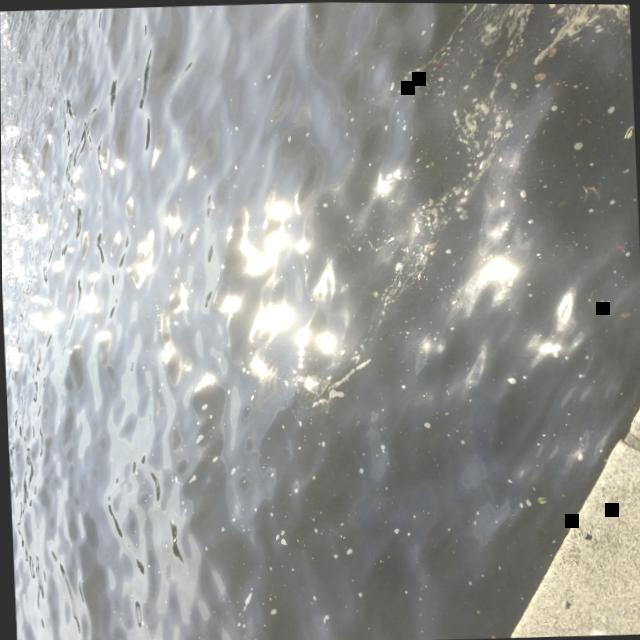Plastic film: (302, 374, 329, 396)
